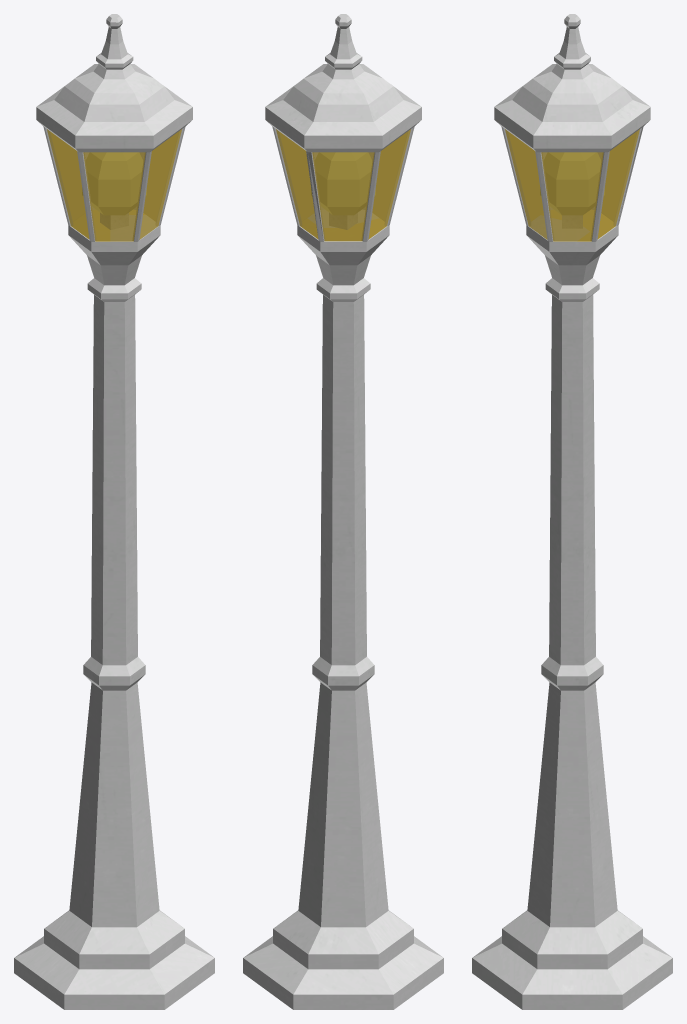
Rendered from jkasdahskd.obj.
3 views of the same model, side by side, from view 1: azimuth 30°, elevation 25°; view 2: azimuth 150°, elevation 25°; view 3: azimuth 270°, elevation 25° (orthographic).
Parts seen in each view (by area): view 1: Main1, Glass1, Bulb1; view 2: Main1, Glass1, Bulb1; view 3: Main1, Glass1, Bulb1.
Boxes of the visible parts, <box> form: Main1: <box>14,14,214,1009</box>; Glass1: <box>47,129,181,241</box>; Bulb1: <box>82,153,146,214</box>; Main1: <box>243,14,443,1009</box>; Glass1: <box>276,129,410,241</box>; Bulb1: <box>311,153,375,214</box>; Main1: <box>472,14,672,1009</box>; Glass1: <box>505,129,639,241</box>; Bulb1: <box>540,153,604,214</box>.
Size of the model in its own units: 1.95 by 11.83 by 2.25.
